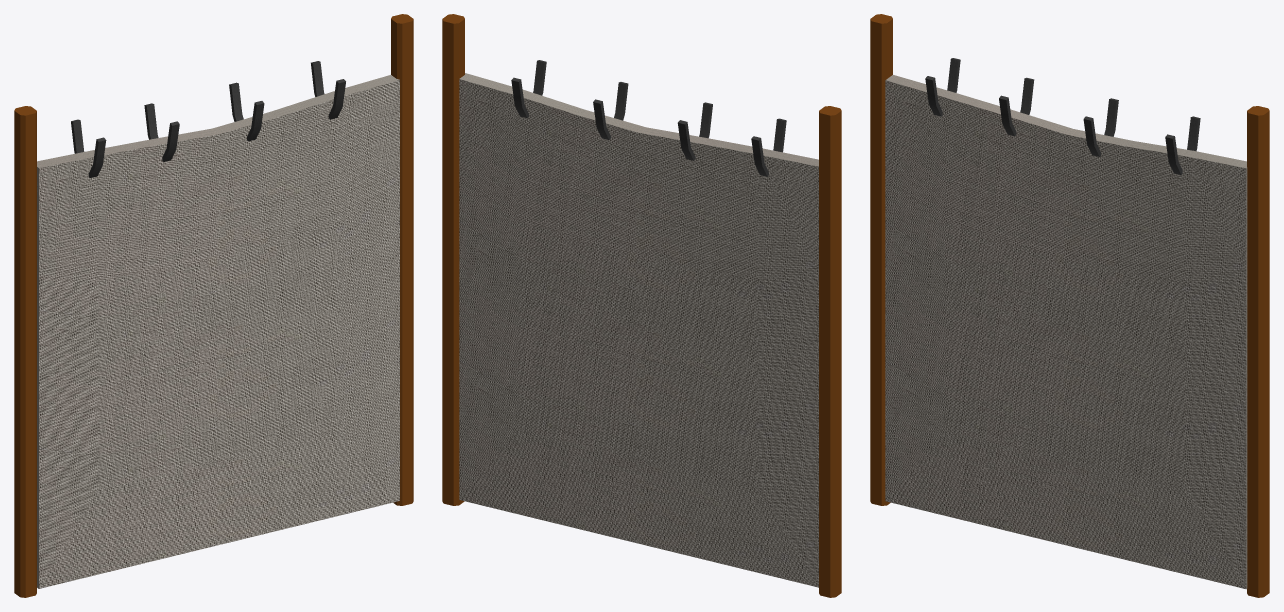
Rendered from sotowaku.fbx.
3 views of the same model, side by side, from view 1: azimuth 30°, elevation 25°; view 2: azimuth 150°, elevation 25°; view 3: azimuth 330°, elevation 25° (orthographic).
Parts seen in each view (by area): view 1: Box003, Box004, Box002; view 2: Box003, Box004, Box002; view 3: Box003, Box002, Box004.
Part boxes in pixels (left/top/right/bottom): Box003: left=37, top=75, right=399, bottom=588; Box004: left=14, top=106, right=36, bottom=597; Box002: left=391, top=14, right=413, bottom=505; Box003: left=459, top=73, right=818, bottom=587; Box004: left=819, top=106, right=841, bottom=597; Box002: left=442, top=14, right=464, bottom=505; Box003: left=885, top=75, right=1247, bottom=589; Box002: left=1247, top=106, right=1269, bottom=597; Box004: left=870, top=14, right=892, bottom=505.
Size of the model in its own units: 616 by 75.78 by 722.
